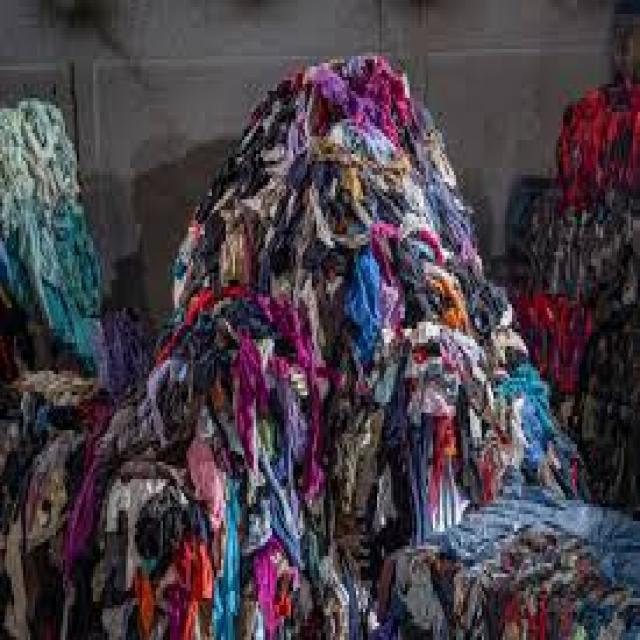Clothes -Biodegradable-: (0, 52, 640, 640)
